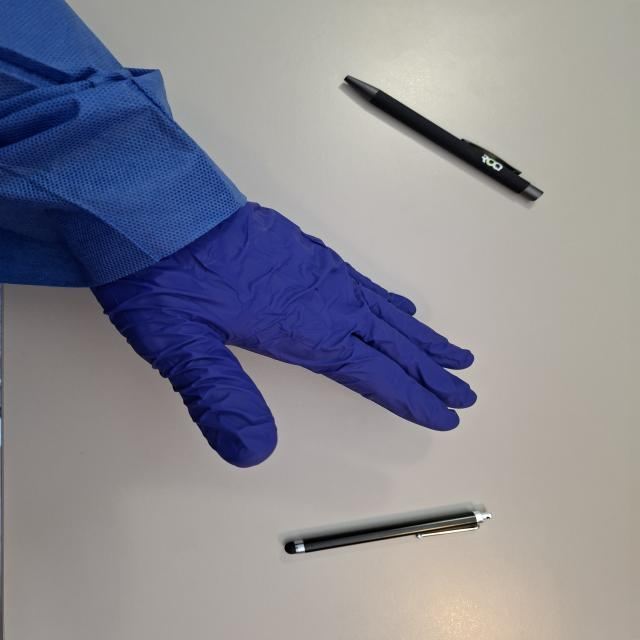glove_on: (81, 196, 482, 470)
